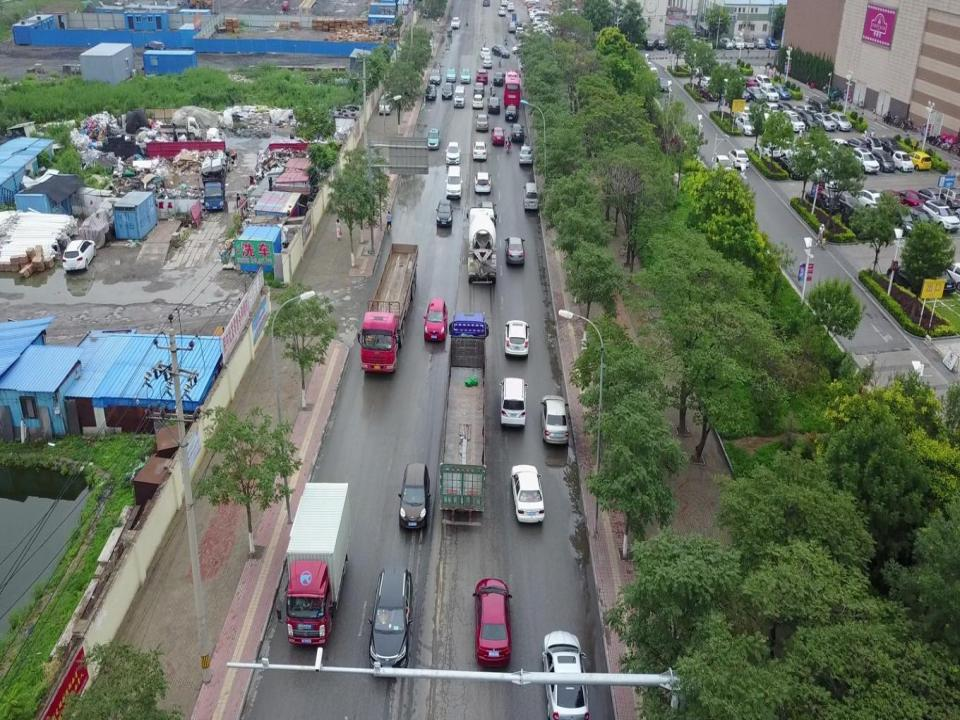car: (366, 566, 412, 673), (540, 630, 590, 720), (472, 576, 511, 666), (396, 460, 430, 527), (509, 464, 545, 526), (540, 394, 571, 446), (59, 235, 97, 269), (424, 296, 449, 344), (504, 317, 532, 359), (504, 234, 526, 264), (433, 200, 454, 229), (712, 150, 732, 180), (728, 148, 749, 171), (377, 88, 393, 115), (472, 169, 492, 190), (443, 140, 462, 162), (473, 169, 492, 191), (479, 201, 498, 223), (426, 125, 442, 151), (472, 168, 491, 189), (471, 167, 490, 188), (471, 141, 488, 159), (656, 76, 672, 92), (642, 60, 658, 76), (422, 84, 437, 100), (512, 42, 532, 54), (519, 144, 533, 161), (492, 44, 510, 57), (443, 84, 455, 103), (475, 114, 489, 130), (510, 122, 524, 138), (492, 126, 504, 144), (428, 66, 442, 81), (472, 94, 485, 109), (472, 78, 485, 93), (444, 65, 457, 80), (505, 103, 517, 118), (488, 96, 500, 111), (459, 68, 471, 83), (482, 57, 494, 68), (481, 45, 491, 56)
truck: (281, 477, 349, 647), (442, 309, 493, 530), (355, 238, 421, 374), (197, 156, 226, 213)
van: (498, 374, 528, 431)
